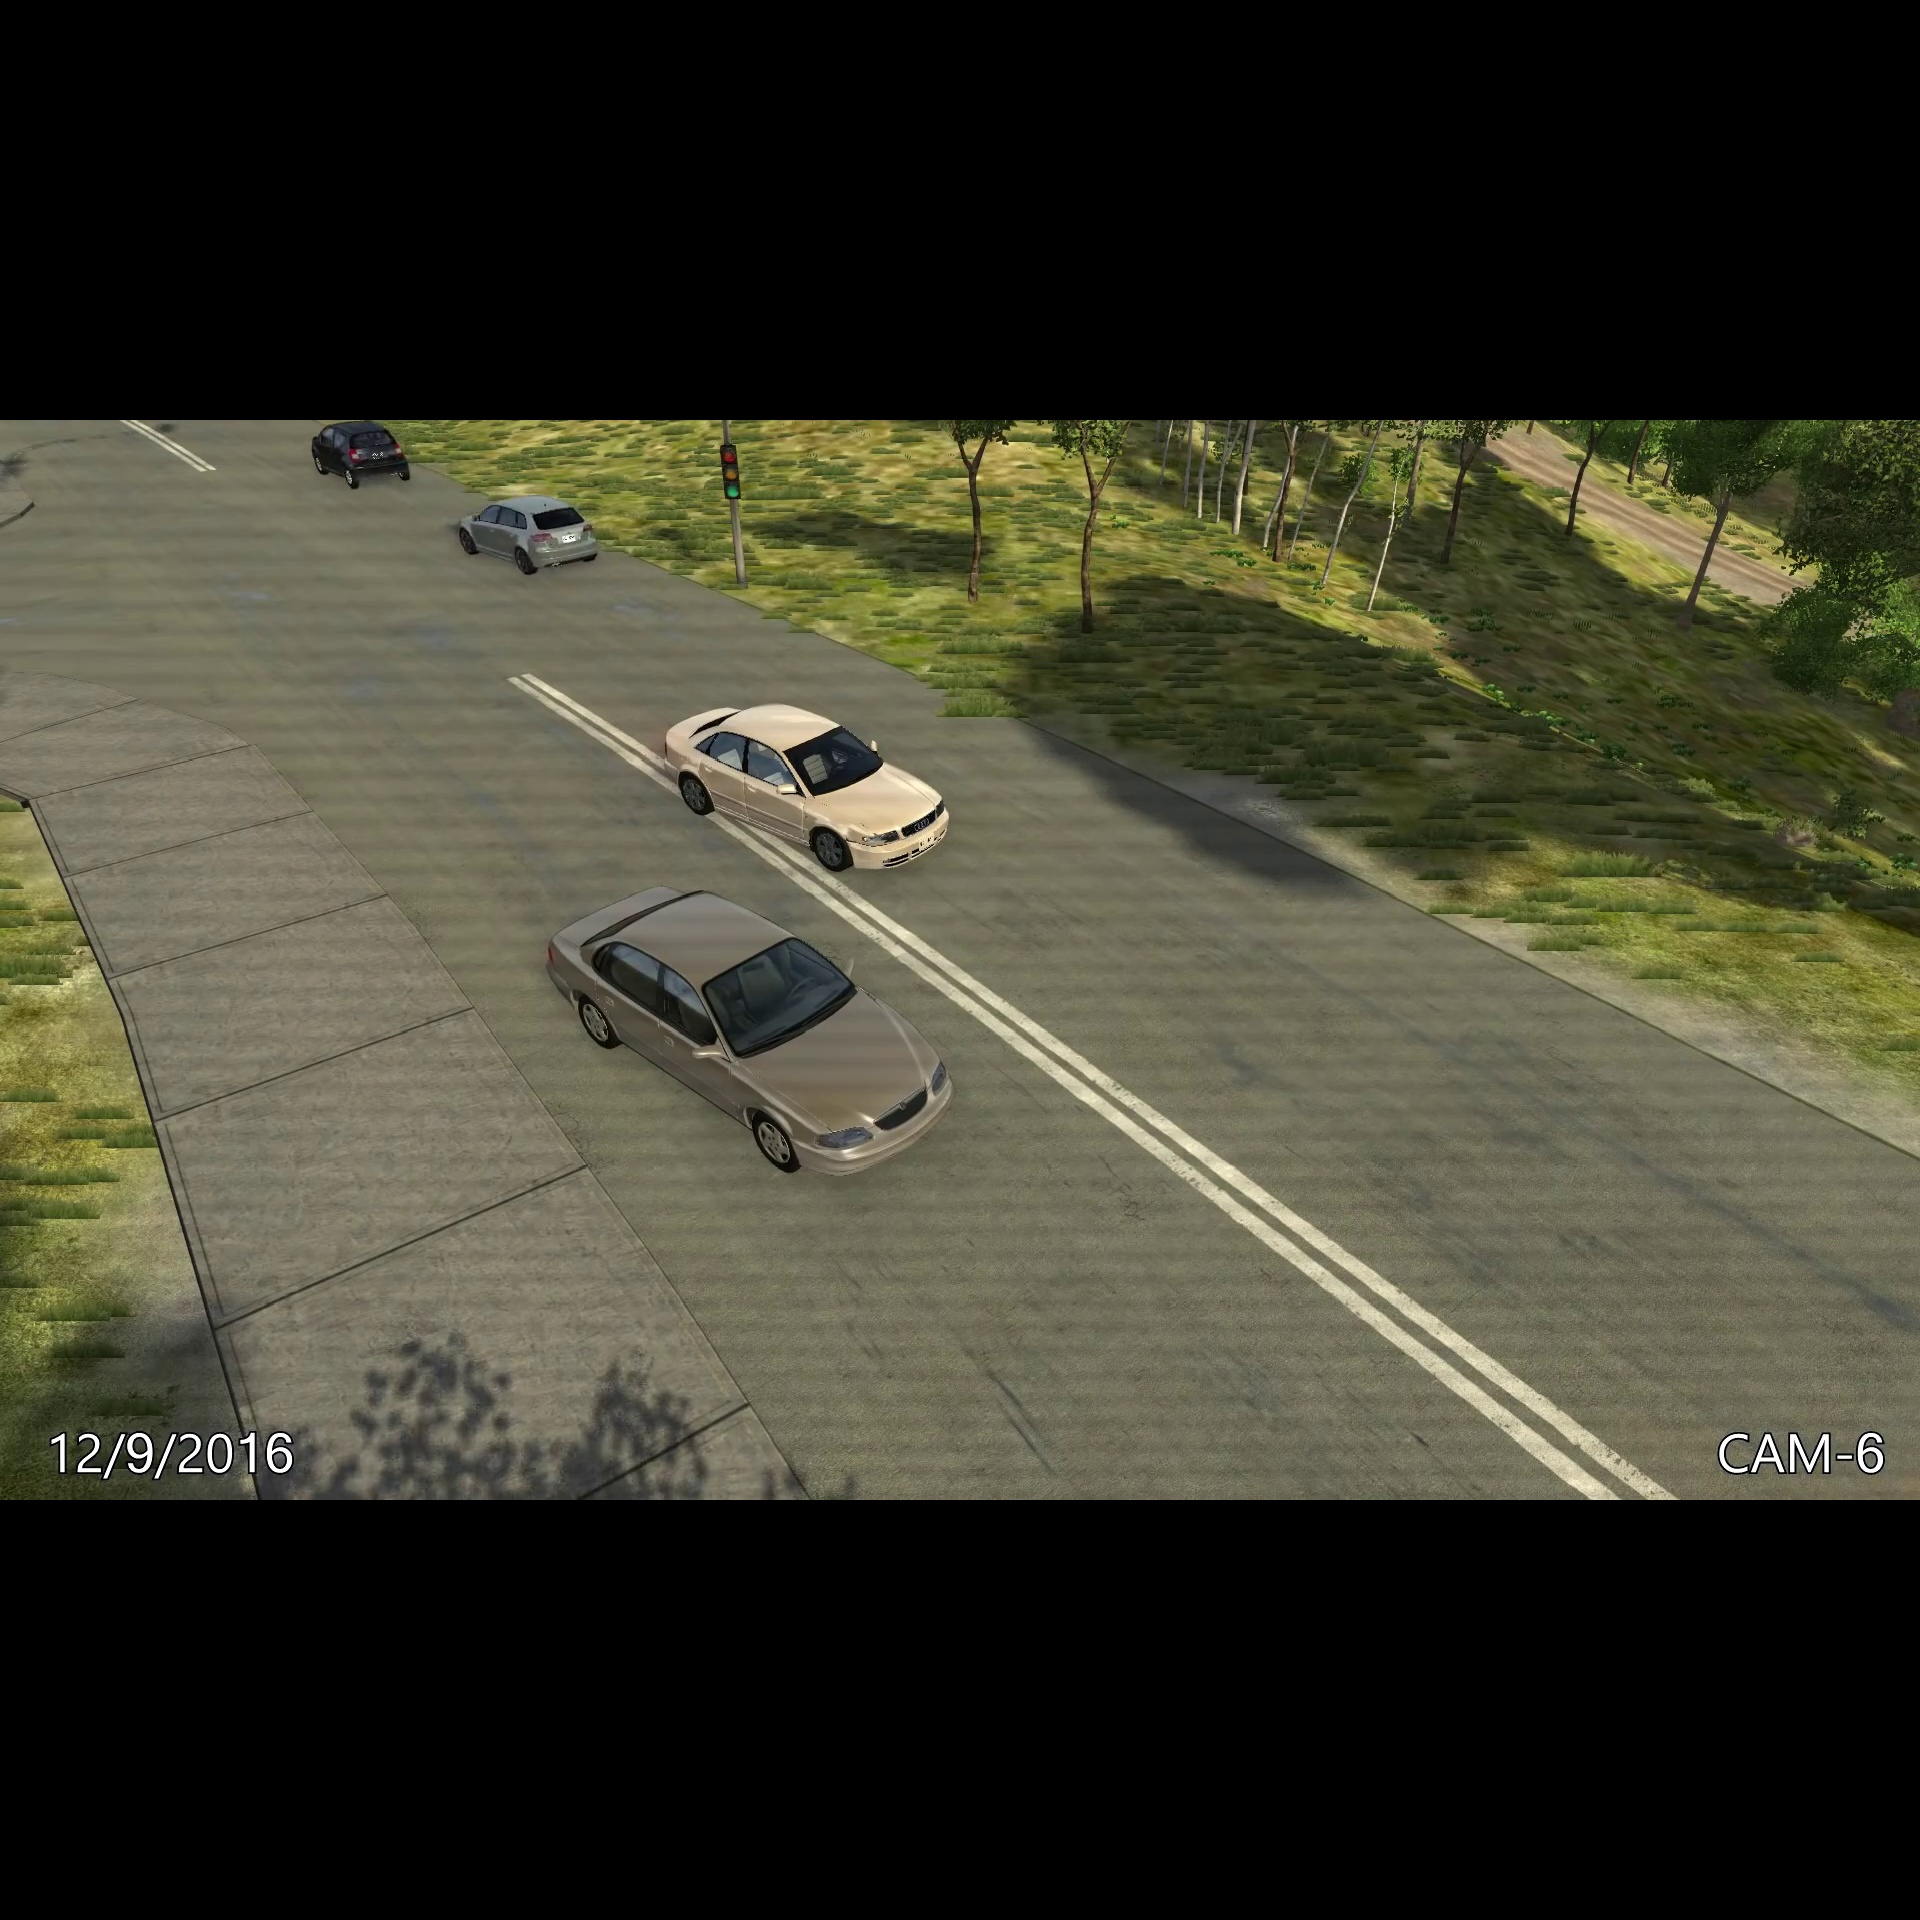vehicle: (540, 872, 958, 1189), (658, 695, 958, 883), (452, 491, 605, 582), (302, 420, 417, 496)
